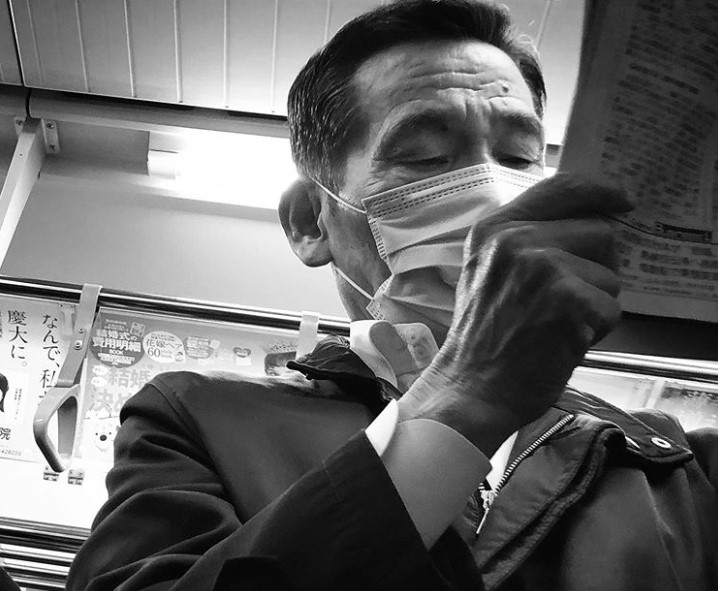face_with_mask: (292, 9, 559, 358)
